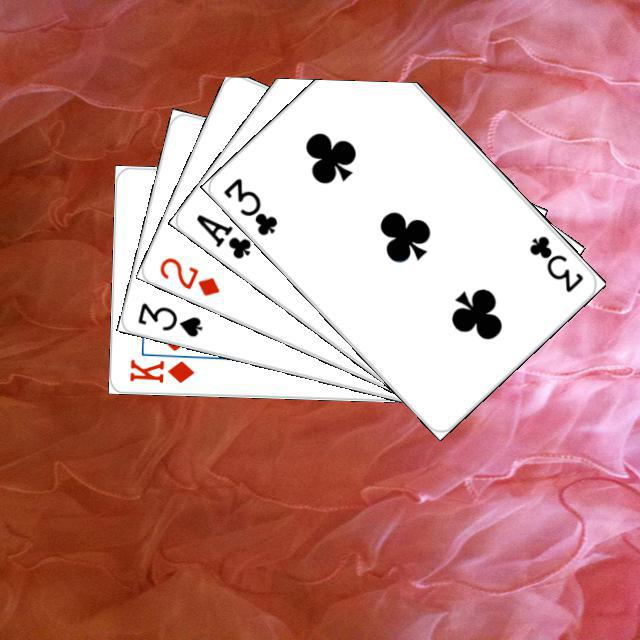2d: (154, 252, 222, 298)
3c: (218, 173, 279, 237), (524, 231, 585, 295)
3s: (132, 298, 204, 339)
Ac: (191, 209, 253, 261)
Kd: (125, 354, 196, 385)
